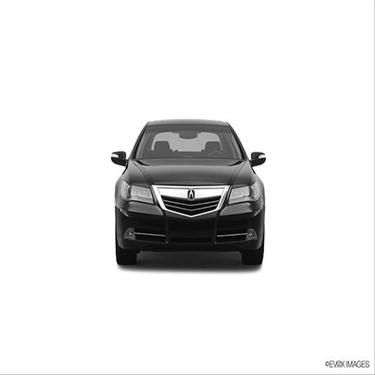car: (93, 111, 276, 276)
